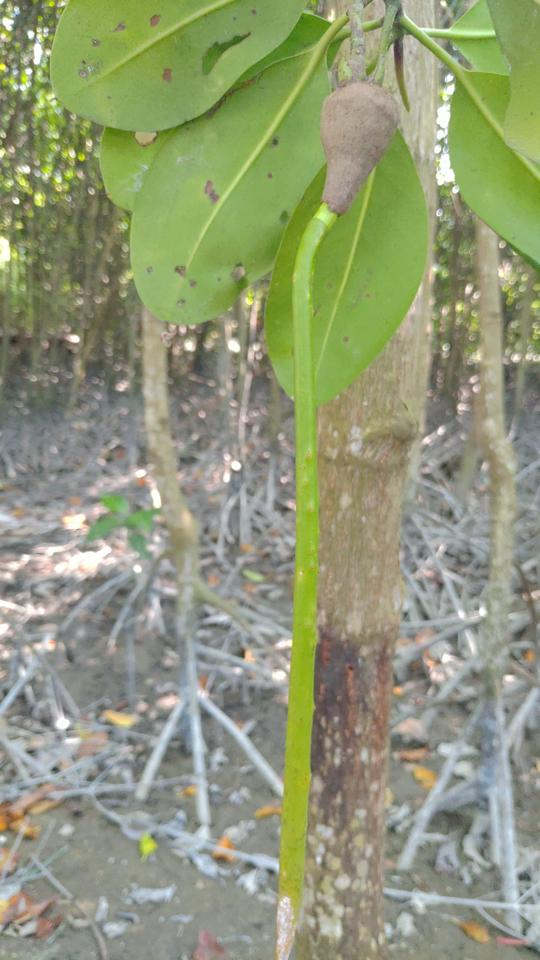setengah matang: (249, 67, 408, 953)
